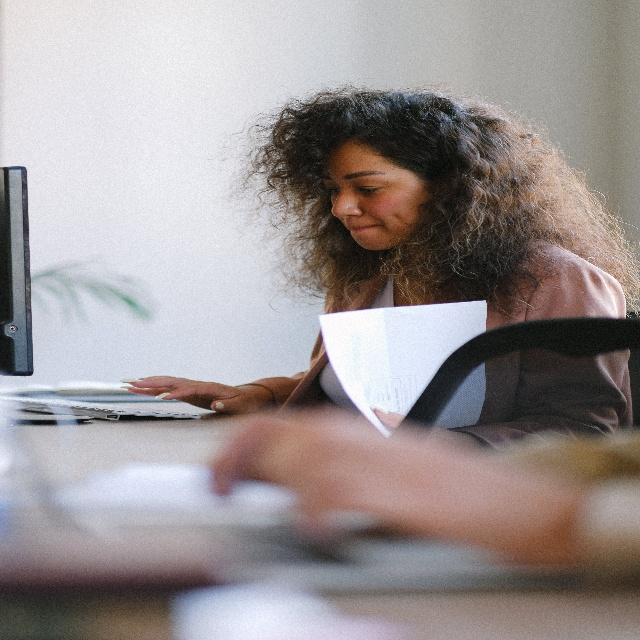Sin_guantes: (122, 368, 267, 422)
